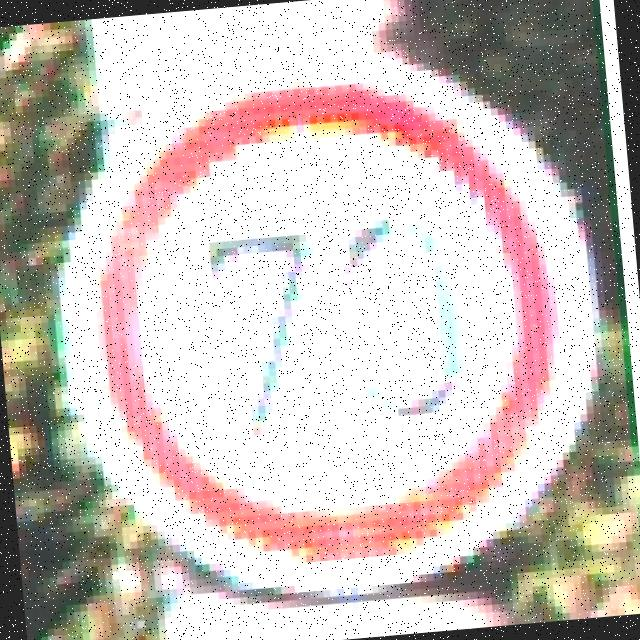Ograniczenie predkosci do 70: (87, 63, 573, 582)
